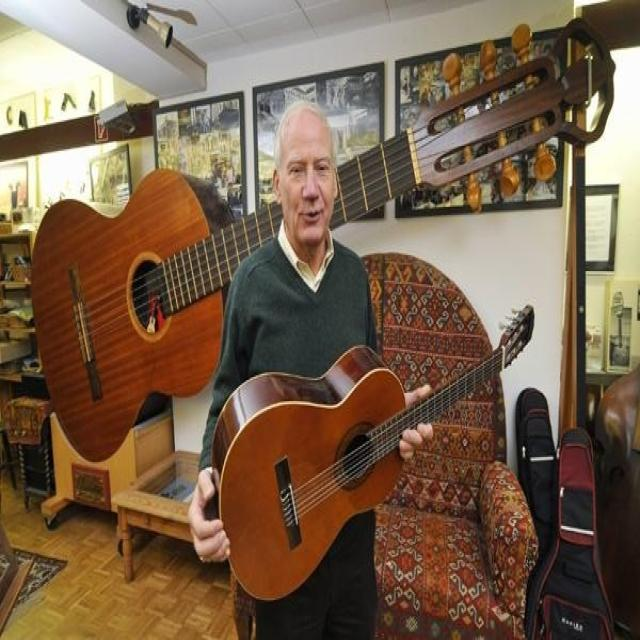guitar: (31, 15, 622, 464), (208, 300, 542, 604)
